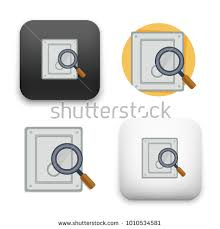searchIcon: (51, 139, 94, 189), (153, 46, 195, 88), (56, 46, 87, 79), (157, 145, 186, 178)
